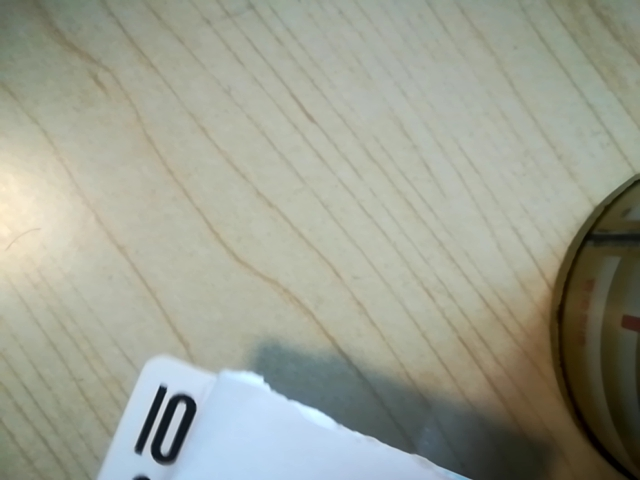mh 10: (118, 375, 212, 478)
